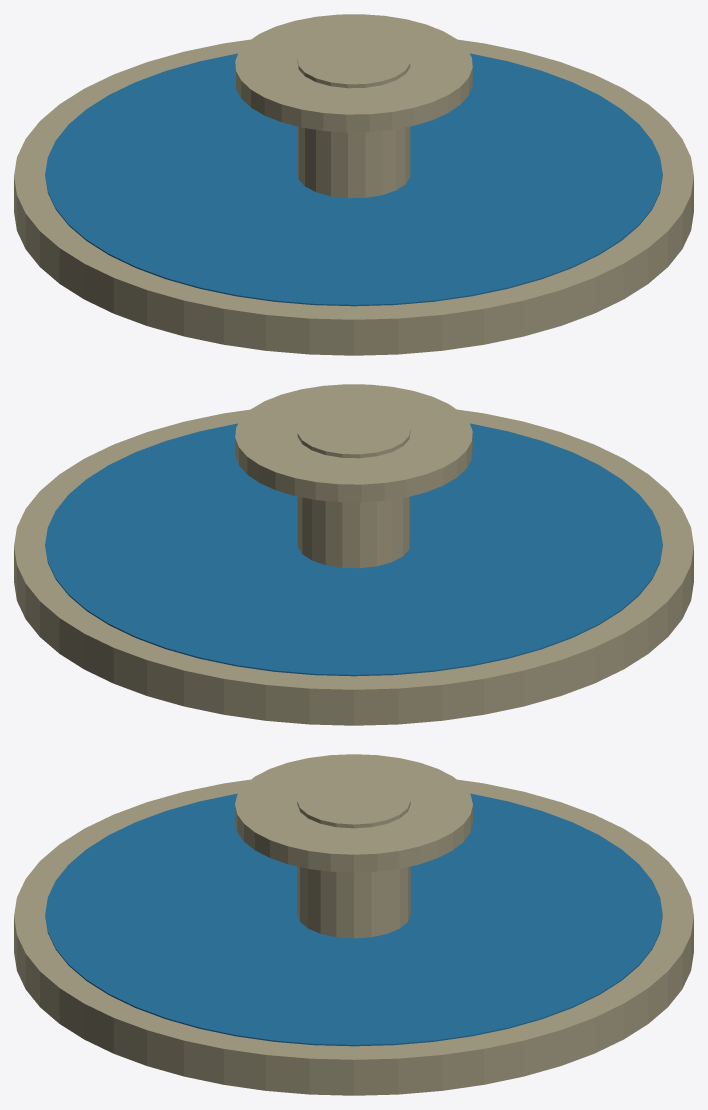
File: fountain.glb
3 renders of one model, top to bottom at view 1: azimuth 30°, elevation 25°; view 2: azimuth 150°, elevation 25°; view 3: azimuth 270°, elevation 25°, orthographic.
Visible parts, largest first — view 1: BasinWater, FountainBasin, FountainUpperBowl, FountainPedestal; view 2: BasinWater, FountainBasin, FountainUpperBowl, FountainPedestal; view 3: BasinWater, FountainBasin, FountainUpperBowl, FountainPedestal.
Boxes of the visible parts, x1,y1,x2,y2 form: BasinWater: (45, 53, 662, 306); FountainBasin: (14, 39, 693, 355); FountainUpperBowl: (235, 14, 472, 132); FountainPedestal: (297, 36, 410, 198); BasinWater: (45, 423, 662, 676); FountainBasin: (14, 409, 693, 725); FountainUpperBowl: (235, 384, 472, 502); FountainPedestal: (297, 406, 410, 568); BasinWater: (45, 793, 662, 1046); FountainBasin: (14, 779, 693, 1095); FountainUpperBowl: (235, 754, 472, 872); FountainPedestal: (297, 776, 410, 938).
Bounding box in the file's own units: 12 × 2.95 × 12.
